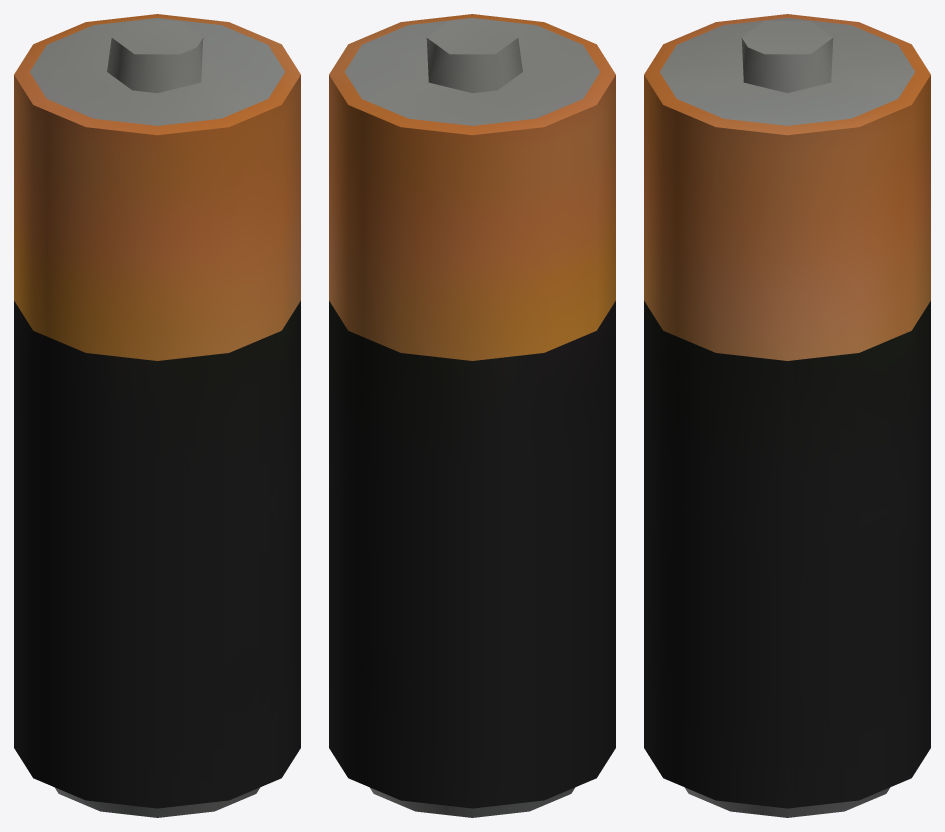
Rendered from battery.glb.
3 views of the same model, side by side, from view 1: azimuth 30°, elevation 25°; view 2: azimuth 150°, elevation 25°; view 3: azimuth 270°, elevation 25° (orthographic).
Size of the model in its own units: 0.8855 by 2.49 by 0.8855.
1 material, 1 textured.
